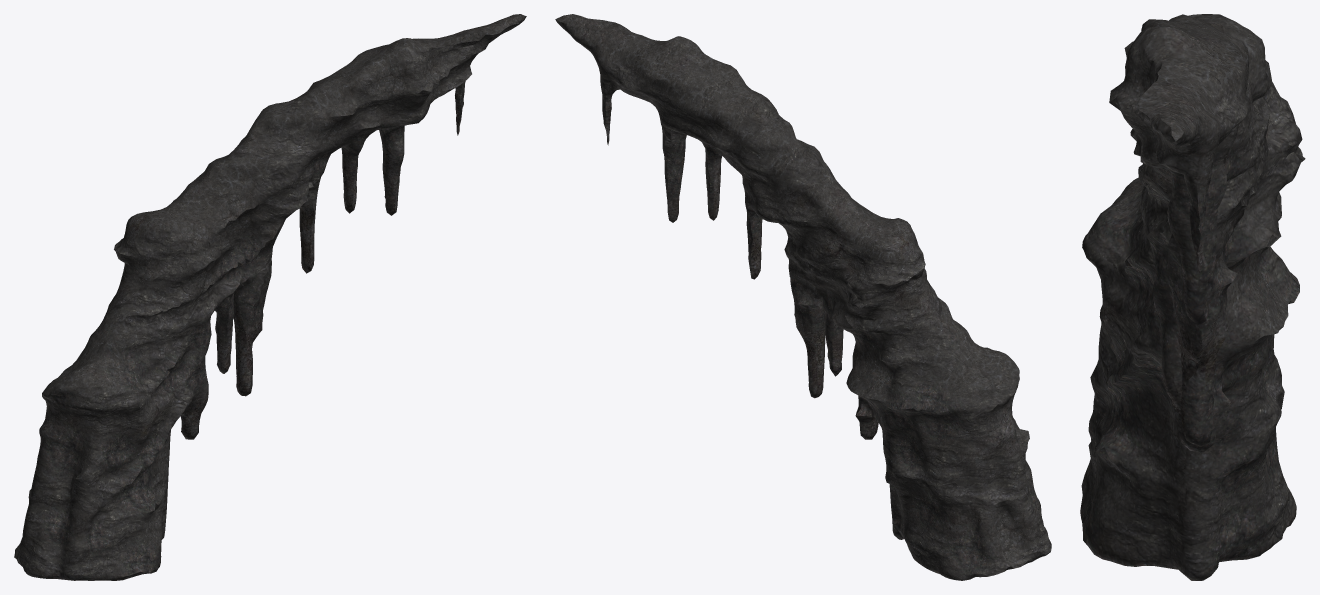
File: CaveRock_K_Fbx.fbx
3 renders of one model, left to right at view 1: azimuth 30°, elevation 25°; view 2: azimuth 150°, elevation 25°; view 3: azimuth 270°, elevation 25°, orthographic. The views are drawn at different scales.
Visible parts, largest first — view 1: CaveRock_K; view 2: CaveRock_K; view 3: CaveRock_K.
Boxes of the visible parts, left/top/right/bottom form: CaveRock_K: left=14, top=14, right=526, bottom=580; CaveRock_K: left=555, top=14, right=1051, bottom=580; CaveRock_K: left=1080, top=14, right=1305, bottom=580.
Bounding box in the file's own units: 8427 × 7243 × 1958.
